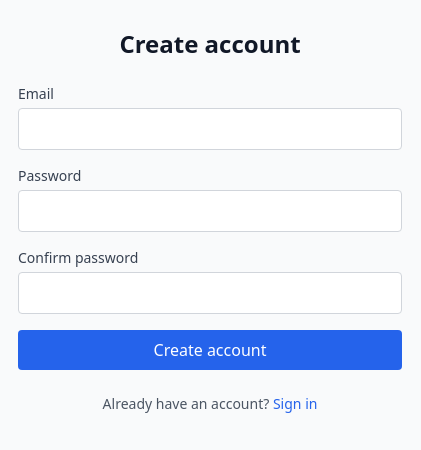
Scenario: RegisterPage › shows error when passwords do not match
Type "Str0ng!Pass#1" into the password field labelled "Password" at (210, 211), box [18, 190, 402, 232]
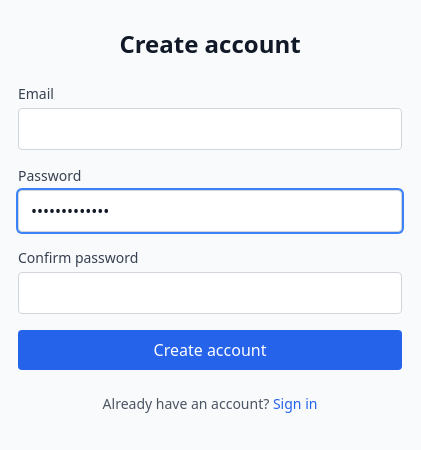
Type "Different!Pass1" into the password field labelled "Confirm password" at (210, 293), box [18, 272, 402, 314]
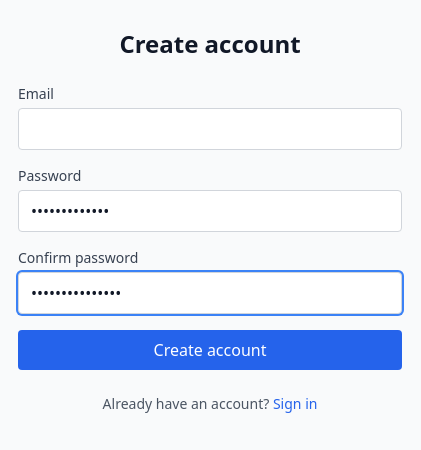
Click the button "Create account" at (210, 350), box [18, 330, 402, 370]
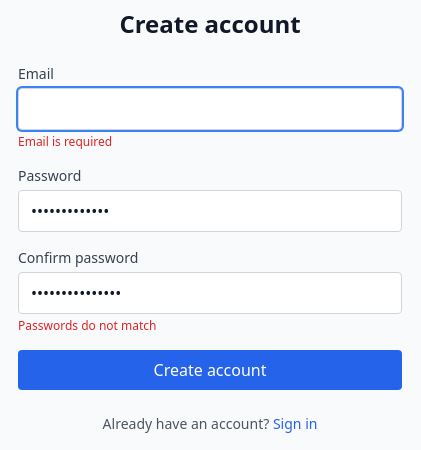
Expected: the text "Passwords do not match" is shown, [18, 317, 156, 334]
